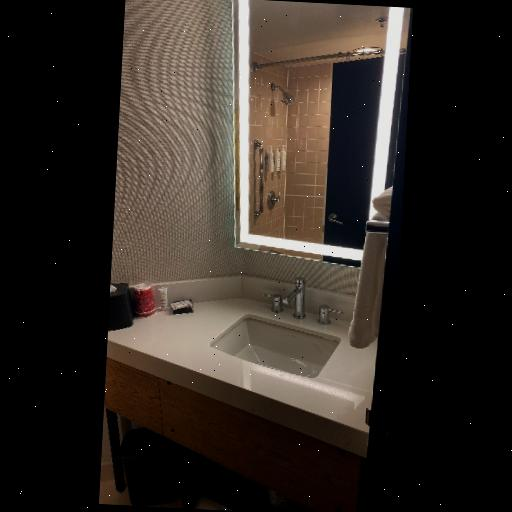clean mirror: (221, 0, 409, 268)
clean_sink: (96, 274, 378, 512)
